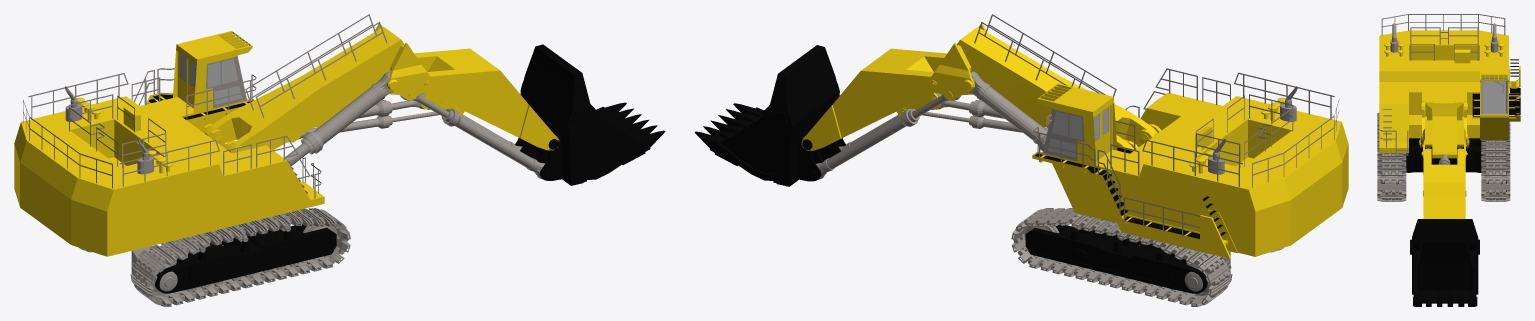
The model's file is ult.fbx.
3 views of the same model, side by side, from view 1: azimuth 30°, elevation 25°; view 2: azimuth 150°, elevation 25°; view 3: azimuth 270°, elevation 25° (orthographic). The views are drawn at different scales.
Visible parts, largest first — view 1: Layer:0 (×7); view 2: Layer:0 (×7); view 3: Layer:0 (×21).
Part boxes in pixels (left/top/right/bottom): Layer:0 (×7): left=14, top=14, right=665, bottom=295; Layer:0 (×7): left=694, top=14, right=1348, bottom=295; Layer:0 (×21): left=1377, top=14, right=1520, bottom=306.
Size of the model in its own units: 1000 by 309 by 296.
